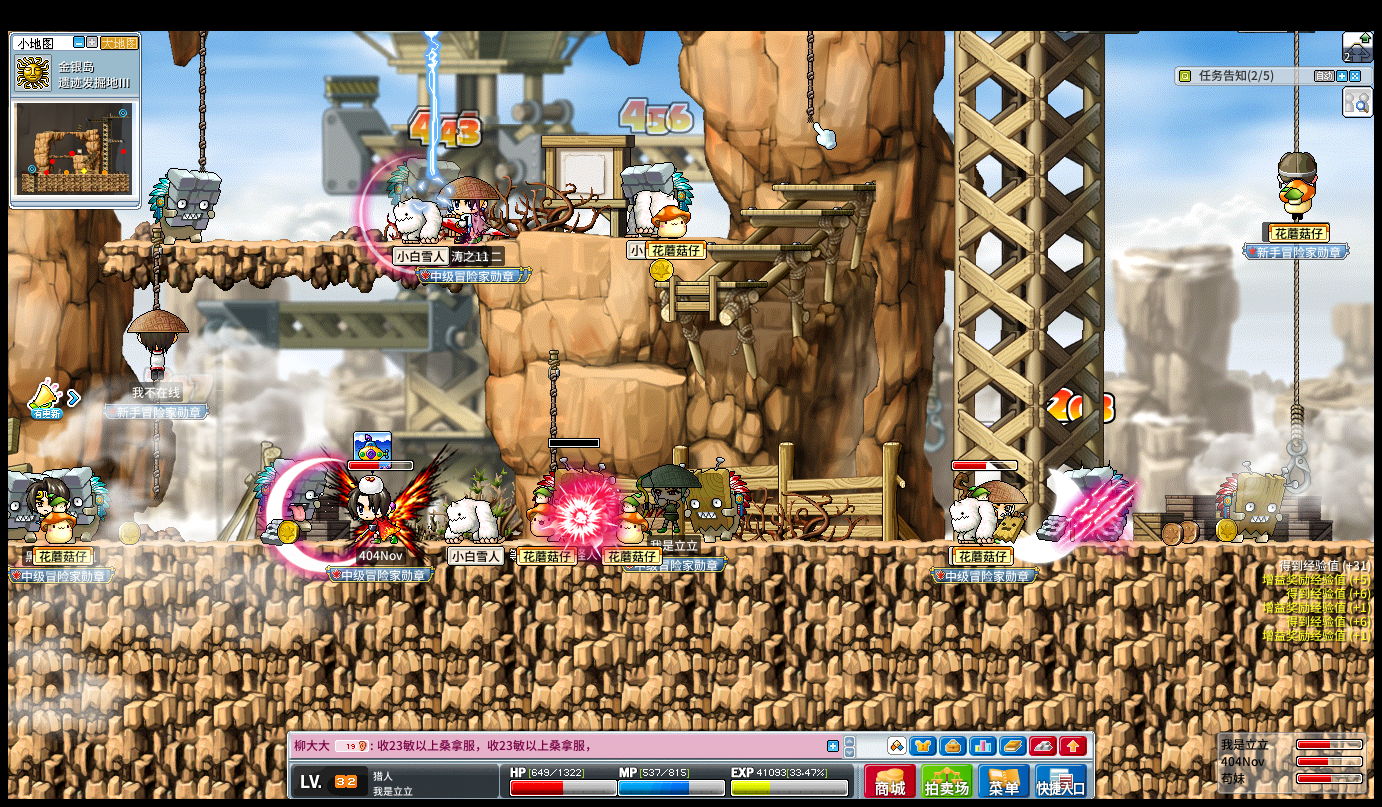floor: (105, 239, 483, 250), (578, 364, 689, 385), (600, 232, 734, 240), (649, 280, 767, 288), (737, 207, 852, 215), (701, 242, 810, 250), (771, 184, 877, 191)
monster: (1214, 463, 1299, 543), (147, 167, 222, 245), (690, 460, 751, 540), (1073, 464, 1131, 543), (65, 468, 111, 539), (621, 162, 695, 195), (5, 470, 34, 543)
rope: (546, 349, 561, 459), (1292, 256, 1302, 411), (544, 351, 557, 465), (198, 31, 207, 172), (805, 29, 814, 124), (1292, 30, 1299, 148), (152, 233, 163, 306), (151, 423, 160, 505), (1288, 413, 1304, 442), (1292, 403, 1303, 431)
